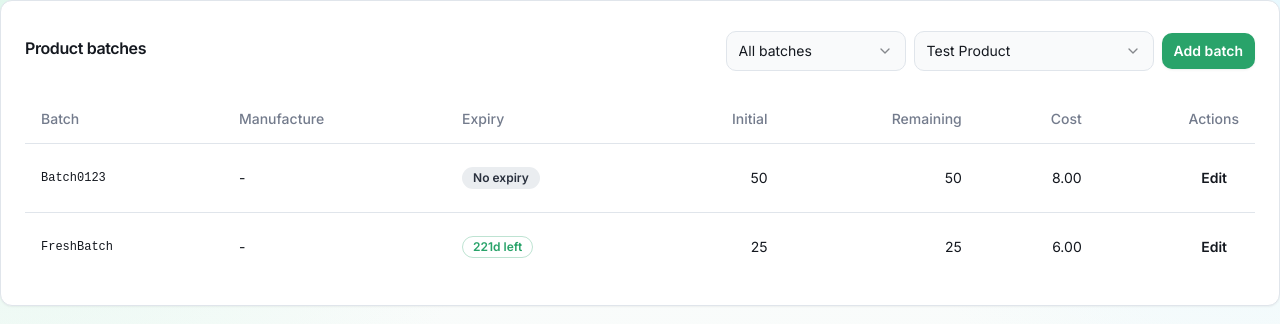
it: BatchesTab › shows only expiring batches when the expiring soon filter is selected
The image size is (1280, 324).
Expected: the text "Batch0123" is shown, [25,143,223,212]
Expected: the text "FreshBatch" is shown, [25,212,223,280]
Click the dropdown named "Batch view" at (816, 51), box [726,31,906,71]
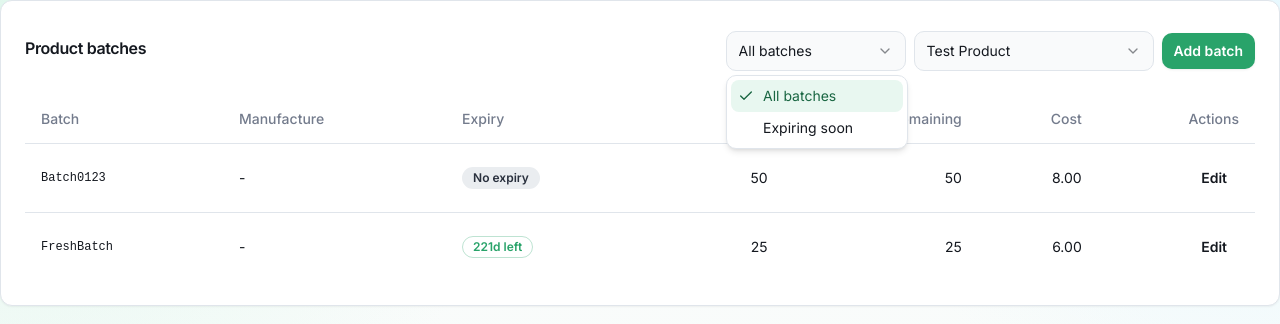
Click the option "Expiring soon" at (808, 128), box [763,119,853,136]
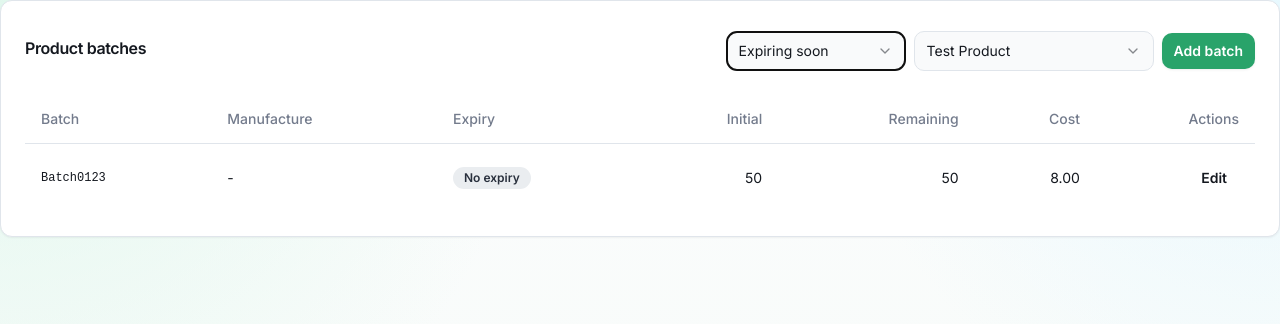
Expected: the text "Batch0123" is shown, [25,143,211,212]
Expected: the text "FreshBatch" is gone
